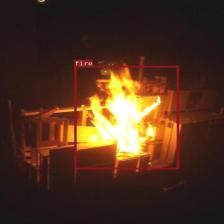fire: (74, 65, 178, 169)
